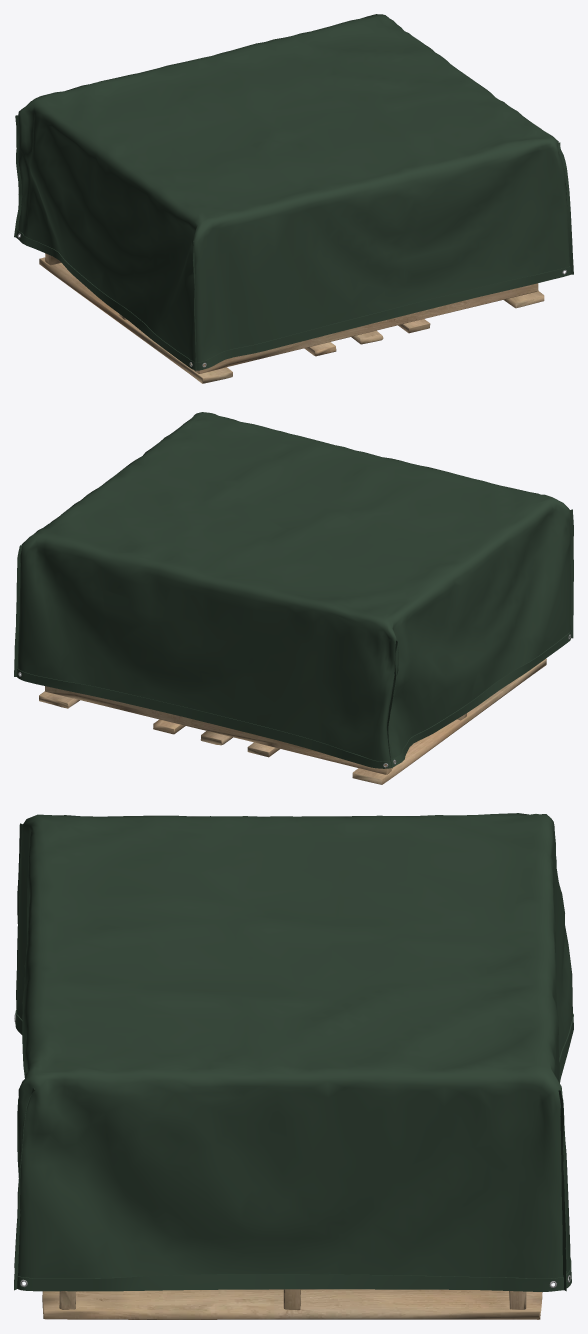
File: pallet_assembly_b01.glb
3 views of the same model, one above another, from view 1: azimuth 30°, elevation 25°; view 2: azimuth 150°, elevation 25°; view 3: azimuth 270°, elevation 25° (orthographic). The views are drawn at different scales.
Visible parts, largest first — view 1: sm_pallet_assembly_b01_mesh_00; view 2: sm_pallet_assembly_b01_mesh_00; view 3: sm_pallet_assembly_b01_mesh_00.
Boxes of the visible parts, box(x1,y1,x2,y2) form: sm_pallet_assembly_b01_mesh_00: box(14, 14, 573, 383); sm_pallet_assembly_b01_mesh_00: box(14, 412, 573, 784); sm_pallet_assembly_b01_mesh_00: box(14, 813, 573, 1319).
Size of the model in its own units: 1.33 by 0.5588 by 1.11.
Materials: 5 (4 with a texture image).
